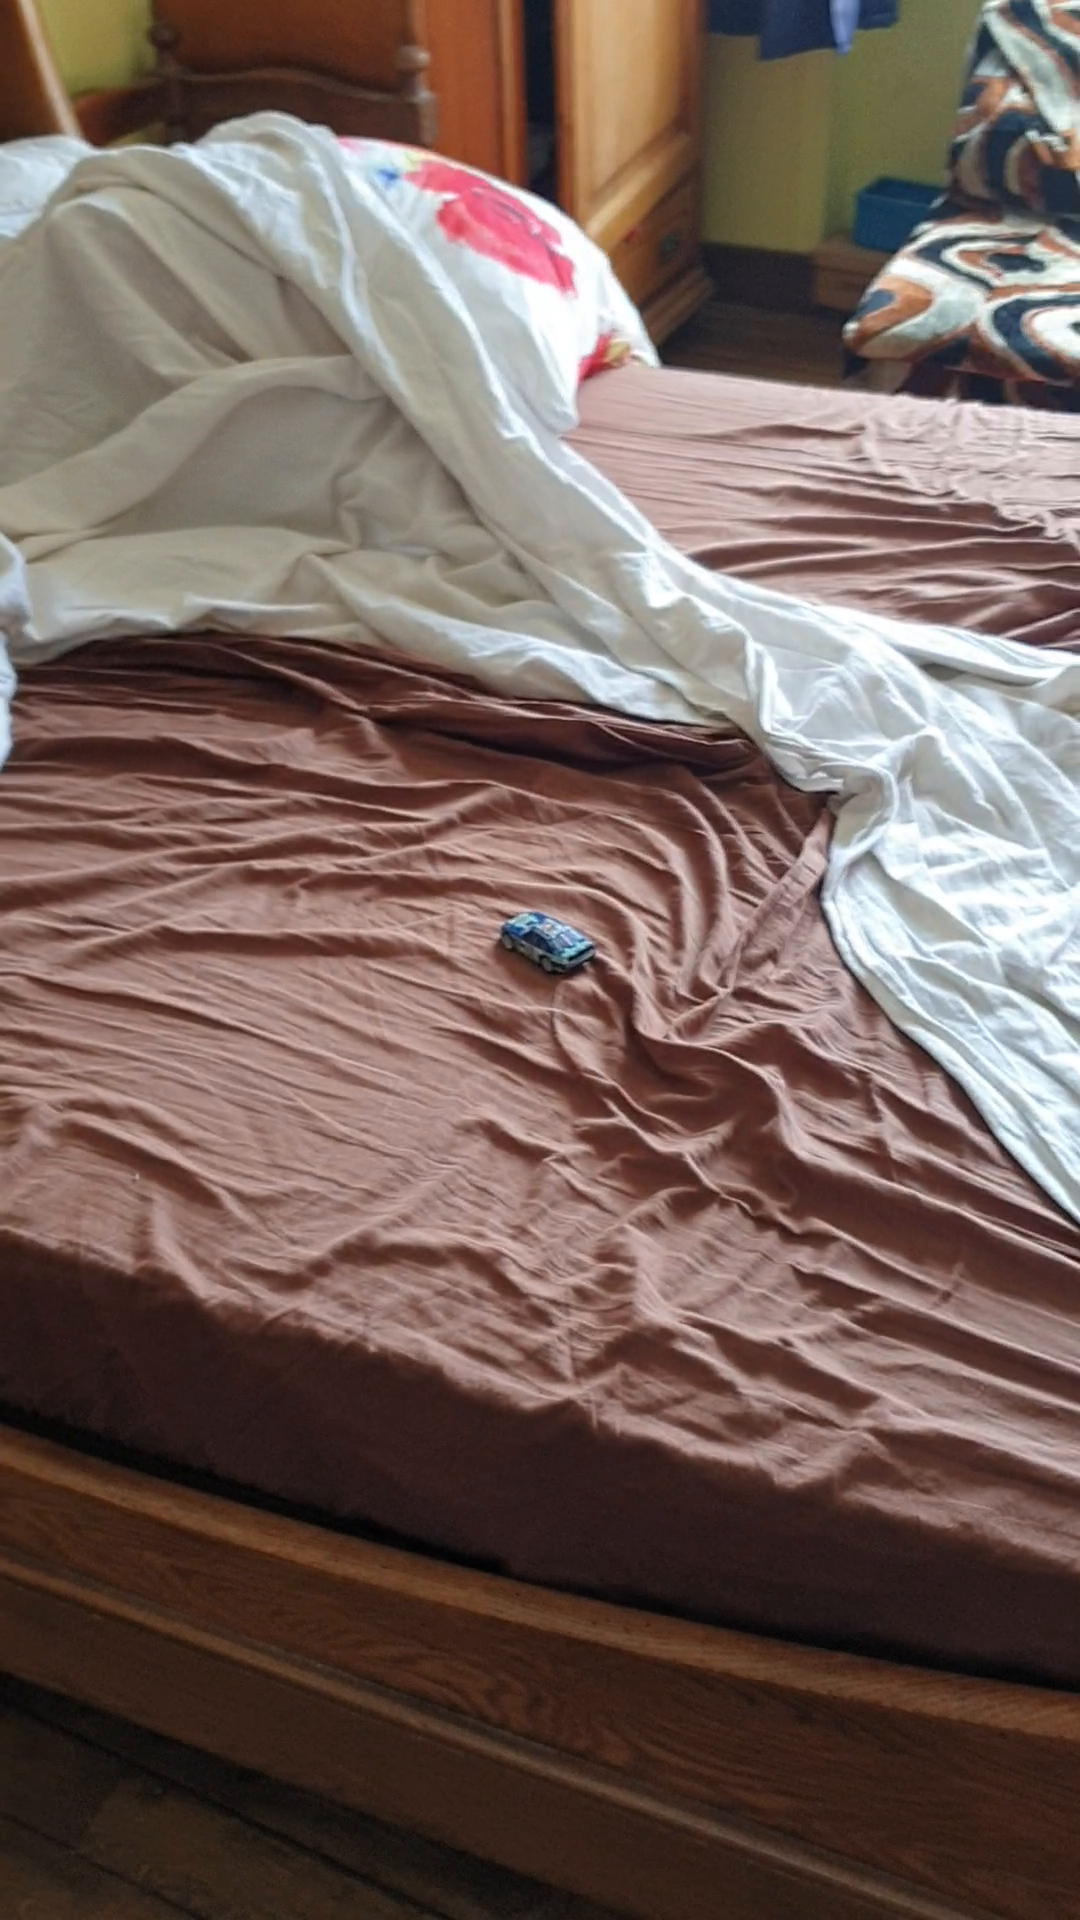cars: (498, 910, 596, 973)
